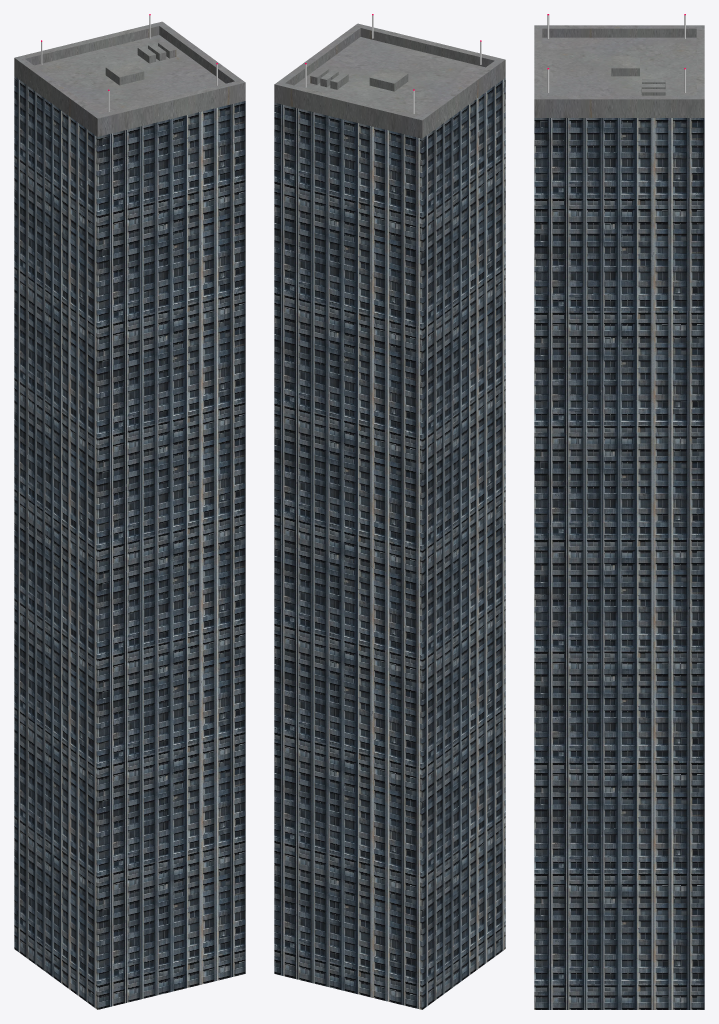
The model's file is dark-skyscraper.glb.
The picture shows the model from 3 angles, left to right: view 1: azimuth 30°, elevation 25°; view 2: azimuth 150°, elevation 25°; view 3: azimuth 270°, elevation 25°; orthographic projection. The views are drawn at different scales.
Visible parts, largest first — view 1: dark-skyscraper.004; view 2: dark-skyscraper.004; view 3: dark-skyscraper.004.
Boxes of the visible parts, x1,y1,x2,y2 form: dark-skyscraper.004: [14, 14, 245, 1009]; dark-skyscraper.004: [274, 14, 505, 1009]; dark-skyscraper.004: [534, 14, 704, 1009].
Bounding box in the file's own units: 44.95 × 264 × 43.77.
4 materials, 2 textured.
